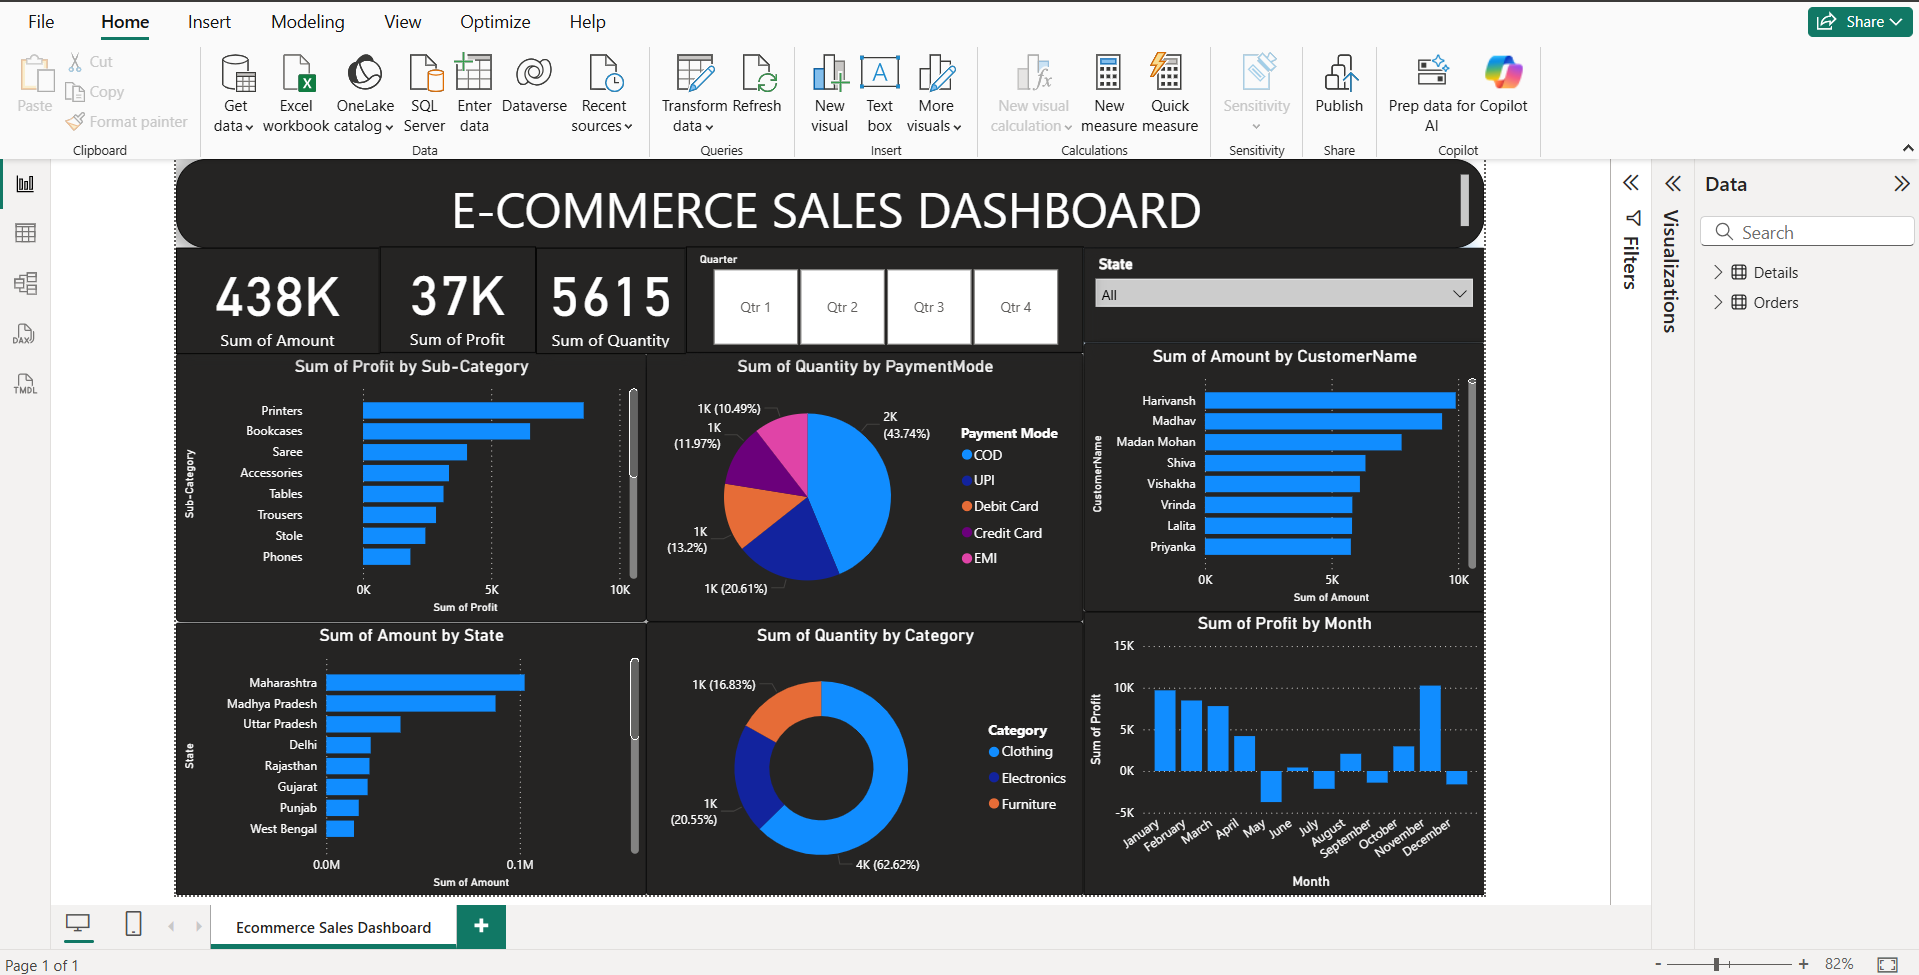

The dashboard page shown, as its layout file describes it:
{"tool":"powerbi","page":{"name":"Ecommerce Sales Dashboard","canvas":[1280,720],"ordinal":0},"visuals":[{"type":"clusteredBarChart","fields":{"Category":["Details.Sub-Category"],"Y":["Details.Profit"]},"box":[0,189.5,459.8,262.9],"z":0},{"type":"slicer","fields":{"Values":["Orders.State"]},"box":[887.8,86.8,392.5,92.9],"z":1000},{"type":"clusteredBarChart","fields":{"Y":["Details.Amount"],"Category":["Orders.State"]},"box":[0,453.7,459.8,266.6],"z":2000},{"type":"pieChart","fields":{"Category":["Details.PaymentMode"],"Y":["Details.Quantity"]},"box":[459.8,189.5,428,262.9],"z":3000},{"type":"textbox","box":[0,0,1280.3,86.8],"z":4000},{"type":"donutChart","fields":{"Y":["Details.Quantity"],"Category":["Details.Category"]},"box":[459.8,452.4,428,267.8],"z":5000},{"type":"clusteredBarChart","fields":{"Y":["Details.Amount"],"Category":["Orders.CustomerName"]},"box":[887.8,179.8,392.5,262.9],"z":6000},{"type":"card","fields":{"Values":["Details.Amount"]},"box":[0,86.8,199.3,103.9],"z":7000},{"type":"card","fields":{"Values":["Details.Profit"]},"box":[199.3,85.6,152.9,103.9],"z":8000},{"type":"card","fields":{"Values":["Details.Quantity"]},"box":[352.2,86.8,146.7,103.9],"z":9000},{"type":"slicer","fields":{"Values":["Orders.Order Date.Variation.Date Hierarchy.Quarter"]},"box":[498.9,85.6,388.9,103.9],"z":10000},{"type":"lineClusteredColumnComboChart","fields":{"Y":["Details.Profit"],"Category":["Orders.Order Date.Variation.Date Hierarchy.Month"]},"box":[887.8,442.7,392.5,277.6],"z":11000}]}

Visuals, with their boxes on the page's 1280x720 design canvas (x1, y1, x2, y2). These are canvas units, not pixel positions in the 1919x975 screenshot, which may show the page scaled, cropped or inside an application window:
clusteredBarChart - Details.Sub-Category x Details.Profit: x1=0, y1=190, x2=460, y2=452
slicer - Orders.State: x1=888, y1=87, x2=1280, y2=180
clusteredBarChart - Details.Amount x Orders.State: x1=0, y1=454, x2=460, y2=720
pieChart - Details.PaymentMode x Details.Quantity: x1=460, y1=190, x2=888, y2=452
textbox: x1=0, y1=0, x2=1280, y2=87
donutChart - Details.Quantity x Details.Category: x1=460, y1=452, x2=888, y2=720
clusteredBarChart - Details.Amount x Orders.CustomerName: x1=888, y1=180, x2=1280, y2=443
card - Details.Amount: x1=0, y1=87, x2=199, y2=191
card - Details.Profit: x1=199, y1=86, x2=352, y2=190
card - Details.Quantity: x1=352, y1=87, x2=499, y2=191
slicer - Orders.Order Date.Variation.Date Hierarchy.Quarter: x1=499, y1=86, x2=888, y2=190
lineClusteredColumnComboChart - Details.Profit x Orders.Order Date.Variation.Date Hierarchy.Month: x1=888, y1=443, x2=1280, y2=720
